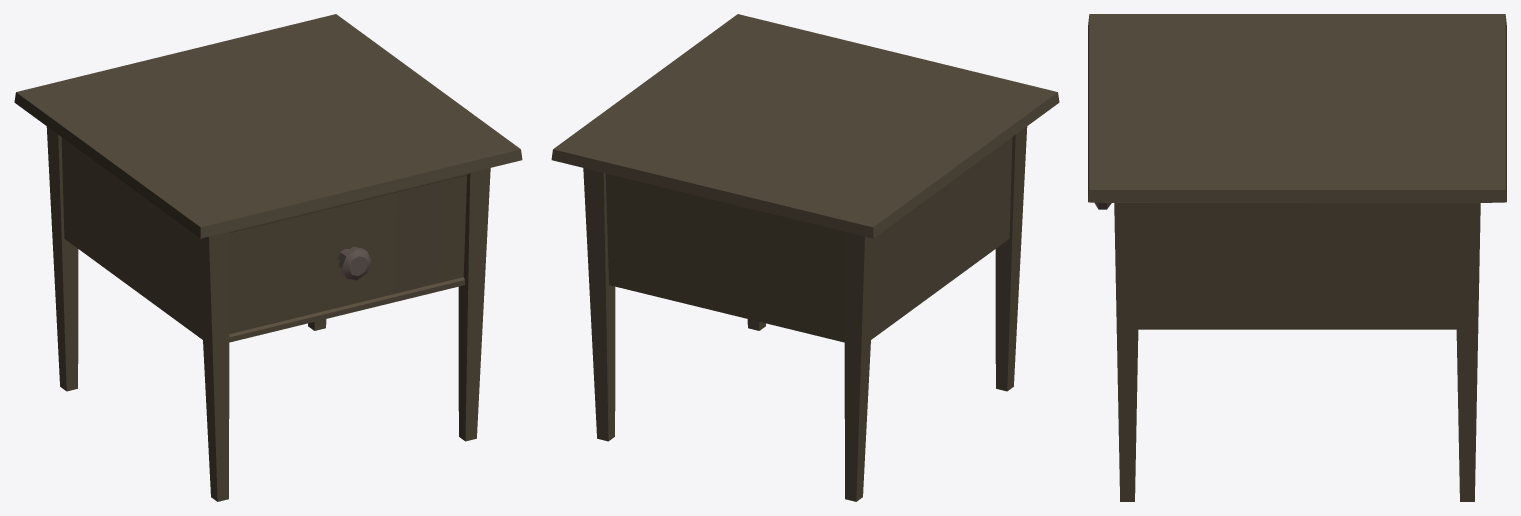
File: NightStand_1.glb
3 renders of one model, left to right at view 1: azimuth 30°, elevation 25°; view 2: azimuth 150°, elevation 25°; view 3: azimuth 270°, elevation 25°, orthographic. The views are drawn at different scales.
Parts seen in each view (by area): view 1: NightStand_1; view 2: NightStand_1; view 3: NightStand_1.
Part boxes in pixels (x1=…): NightStand_1: x1=14, y1=14, x2=522, y2=501; NightStand_1: x1=551, y1=14, x2=1059, y2=501; NightStand_1: x1=1088, y1=14, x2=1506, y2=501.
Bounding box in the file's own units: 0.2857 × 0.2475 × 0.2857.
